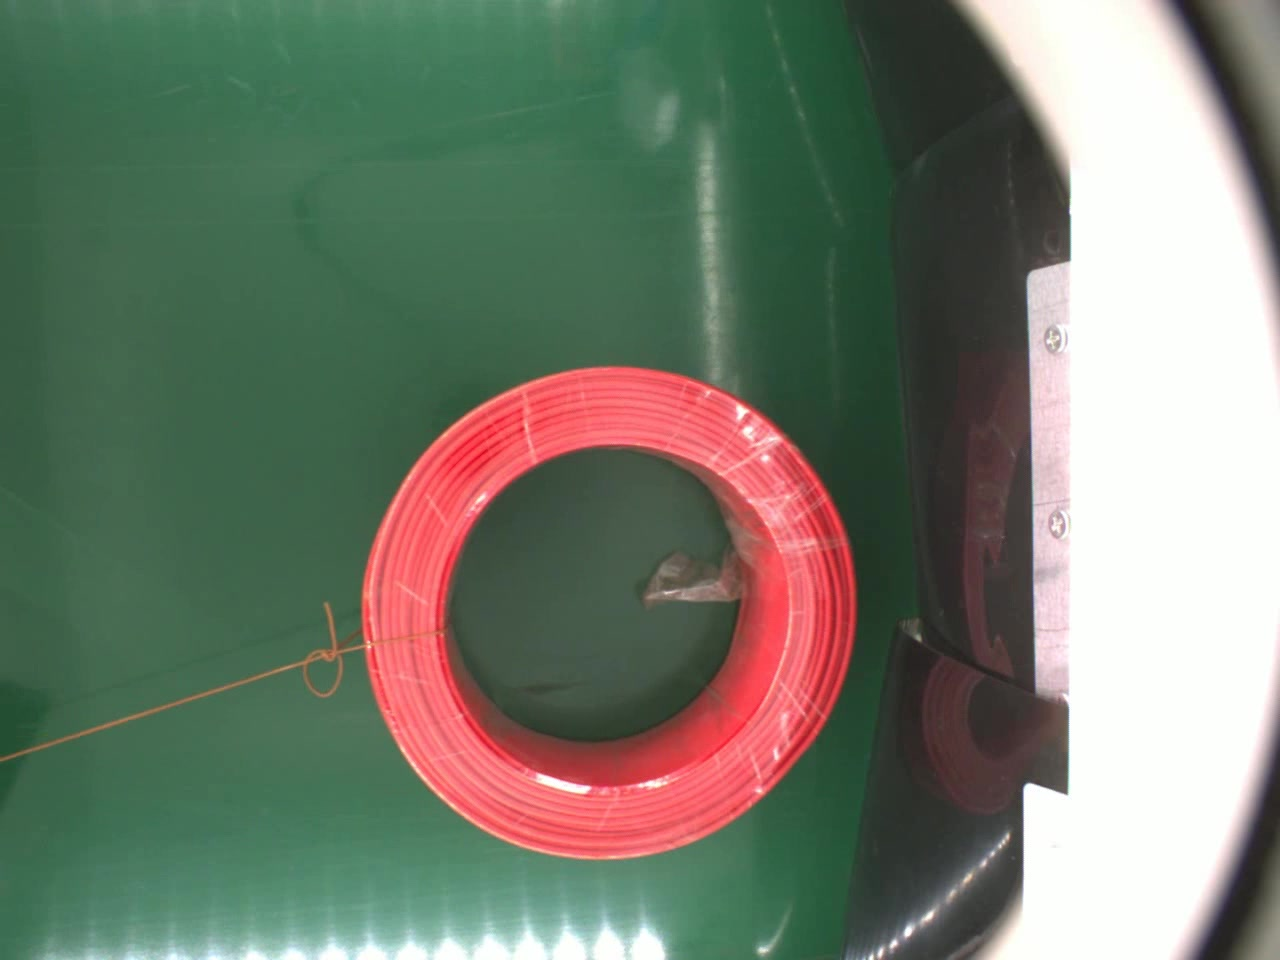red: (357, 359, 861, 864)
